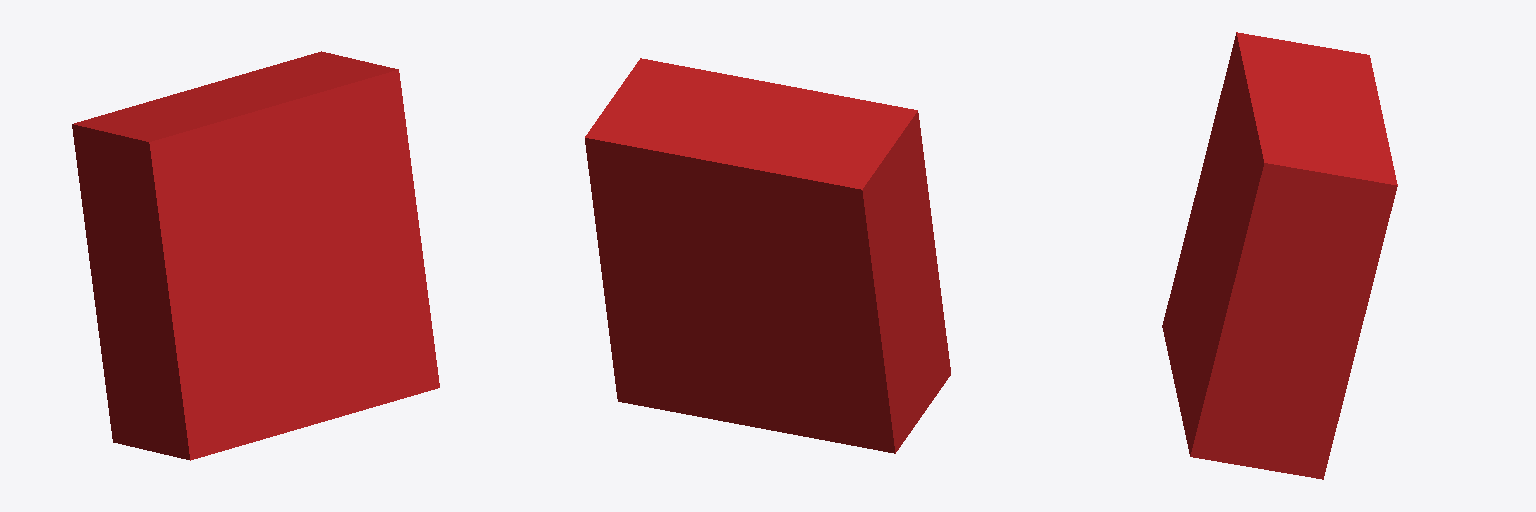
The model's file is cricket_brakelight_R.obj.
3 views of the same model, side by side, from view 1: azimuth 30°, elevation 25°; view 2: azimuth 150°, elevation 25°; view 3: azimuth 270°, elevation 25° (orthographic).
Parts seen in each view (by area): view 1: Brakelight_R; view 2: Brakelight_R; view 3: Brakelight_R.
Boxes of the visible parts, x1=… form: Brakelight_R: x1=72, y1=51, x2=439, y2=460; Brakelight_R: x1=585, y1=58, x2=950, y2=453; Brakelight_R: x1=1162, y1=32, x2=1397, y2=479.
Size of the model in its own units: 0.1184 by 0.1308 by 0.0867.